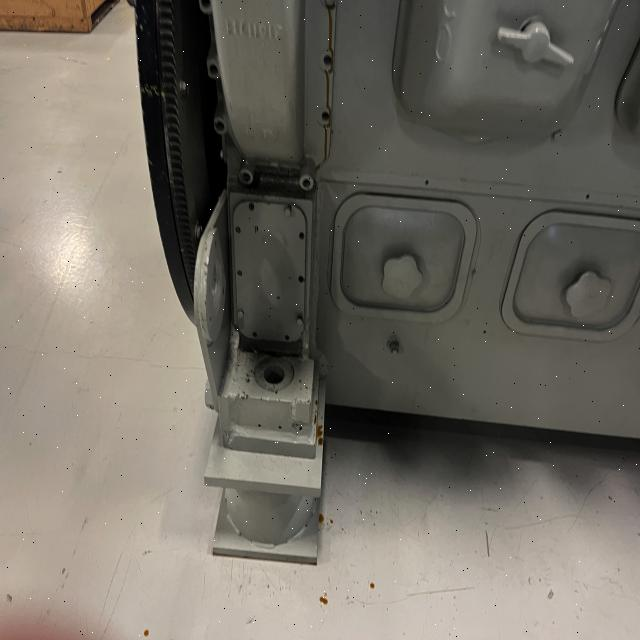Oil Leak: (320, 0, 335, 160), (317, 426, 323, 445), (319, 596, 328, 605)
